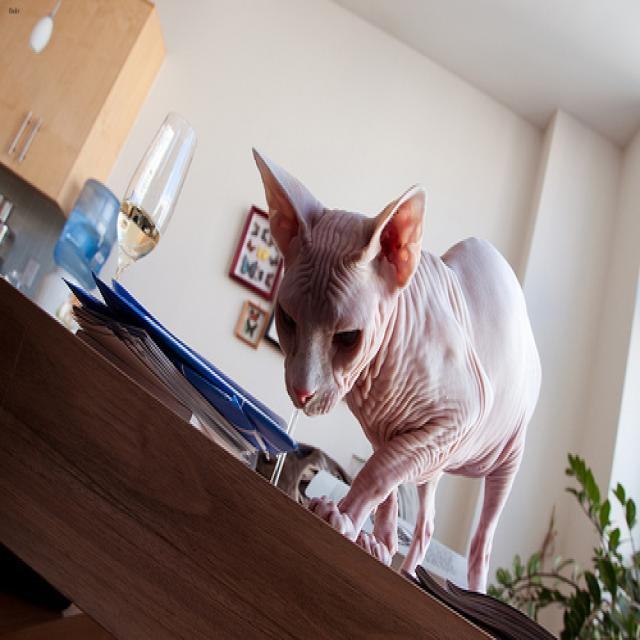Sphynx: (251, 145, 424, 415)
